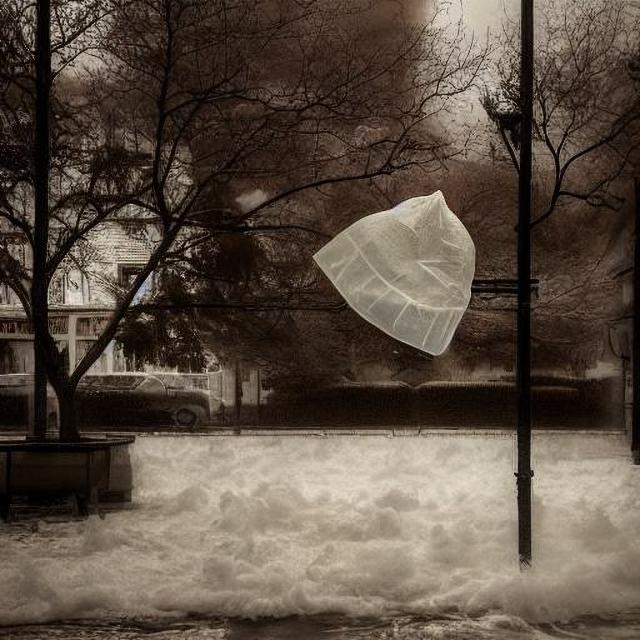plastic bag: (306, 189, 482, 360)
